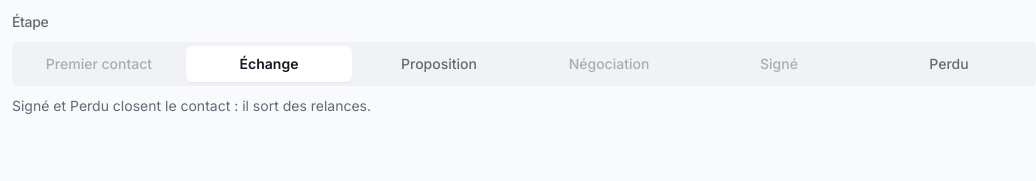
Test: StageSelector › affiche l'erreur renvoyée par l'action dans une Alert
This screenshot has width=1036, height=181.
Click the button "Perdu": point(949, 64) [866,46,1032,82]
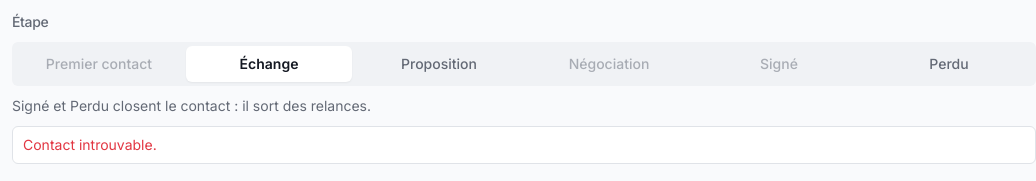
Now the message reads "Contact introuvable.", box [23,136,157,153]
